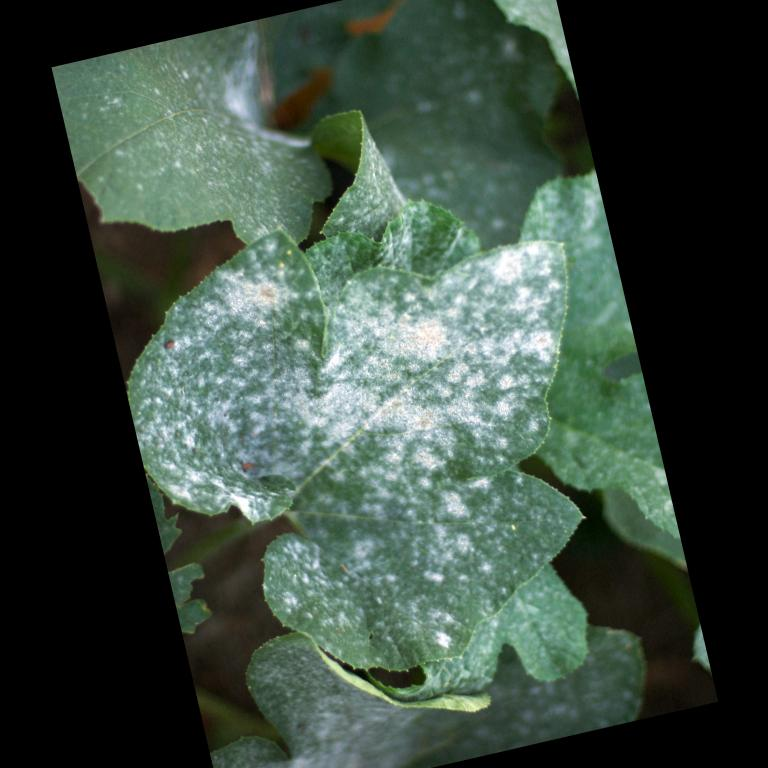powdery-mildew: (315, 280, 535, 498), (140, 288, 342, 510)
